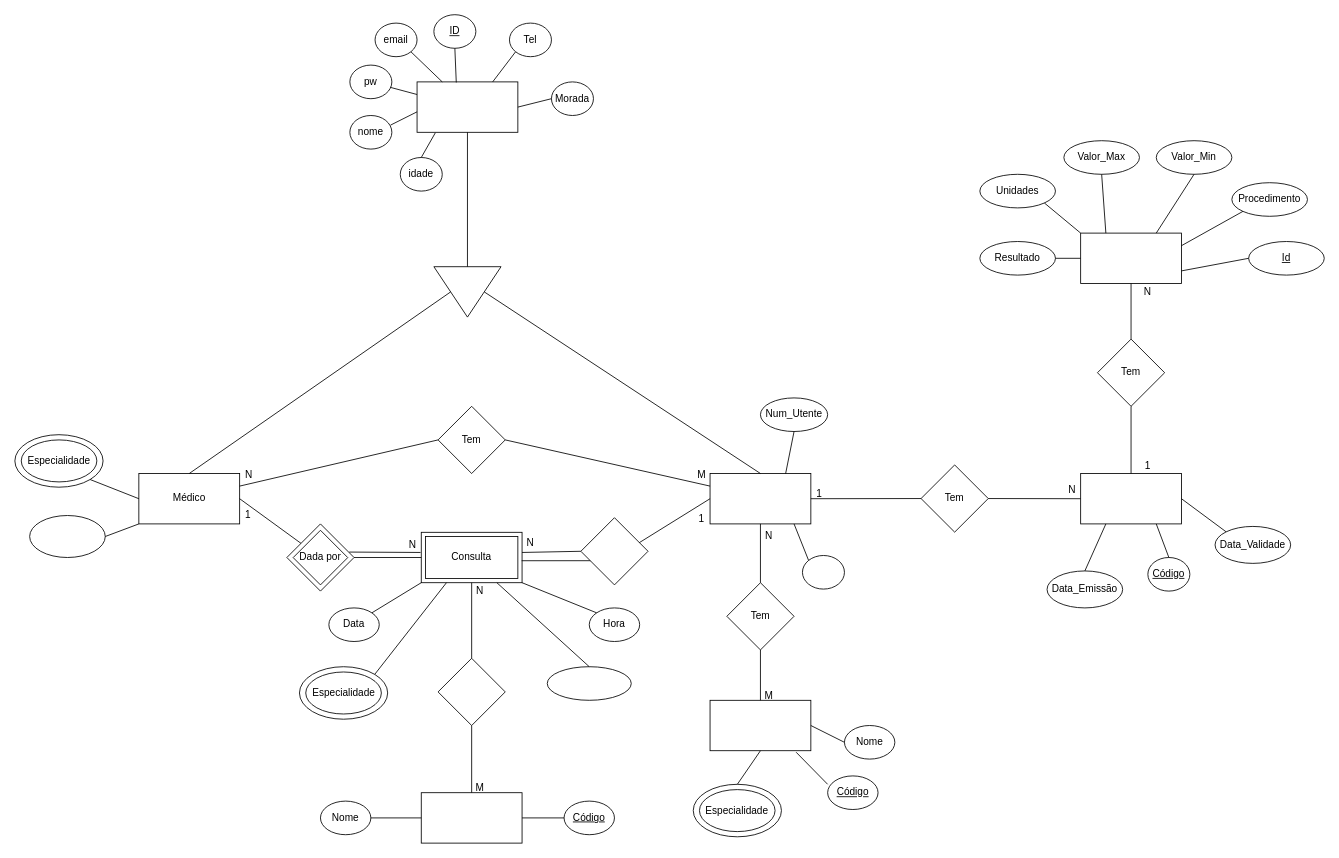
The diagram is 1339 pixels wide and 858 high, and some of its shapes have lost their labels. Each missing label, with the centre of its shape:
"Análise" belongs at (x=1130, y=498).
"Doença" belongs at (x=760, y=725).
"Is-a" belongs at (x=467, y=291).
"Marca" belongs at (x=614, y=551).
"Medicamento" belongs at (x=471, y=817).
"NIF" belongs at (x=823, y=572).
"num_consulta" belongs at (x=588, y=683).
"num_medico" belongs at (x=67, y=536).
"Paciente" belongs at (x=760, y=498).
"Prescreve" belongs at (x=471, y=691).
"Teste" belongs at (x=1130, y=258).
"Utilizador" belongs at (x=467, y=106).
